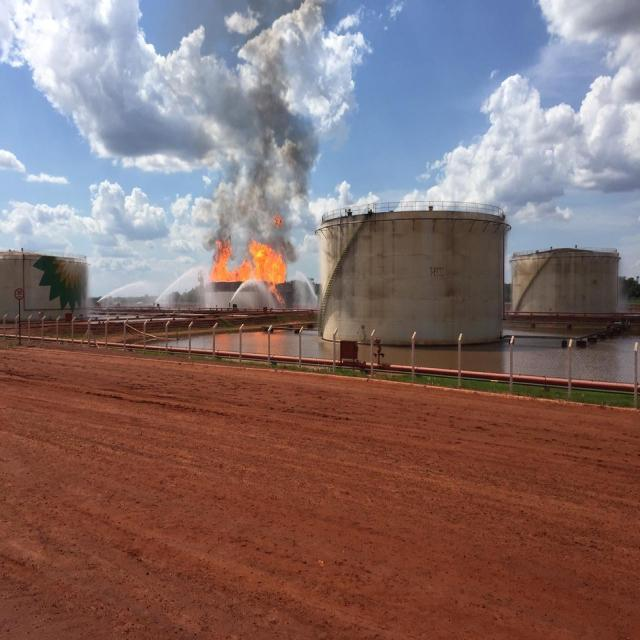Fire: (210, 237, 286, 301)
